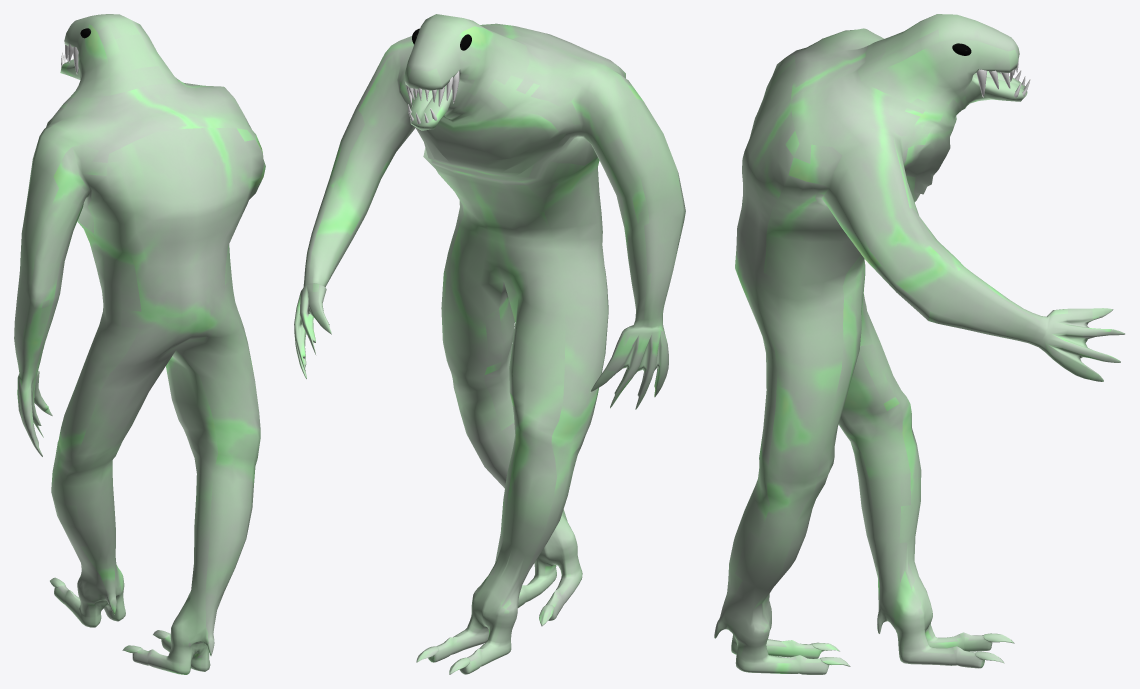
Rendered from Berserkerandar.0069.obj.
The picture shows the model from 3 angles, left to right: view 1: azimuth 30°, elevation 25°; view 2: azimuth 150°, elevation 25°; view 3: azimuth 270°, elevation 25°; orthographic projection. The views are drawn at different scales.
Parts seen in each view (by area): view 1: polySurface27; view 2: polySurface27; view 3: polySurface27.
Part boxes in pixels (left/top/right/bottom): polySurface27: left=14, top=14, right=265, bottom=674; polySurface27: left=294, top=14, right=685, bottom=674; polySurface27: left=714, top=14, right=1124, bottom=674.
Size of the model in its own units: 11.4 by 23.63 by 13.39.
Materials: 1 (1 with a texture image).
